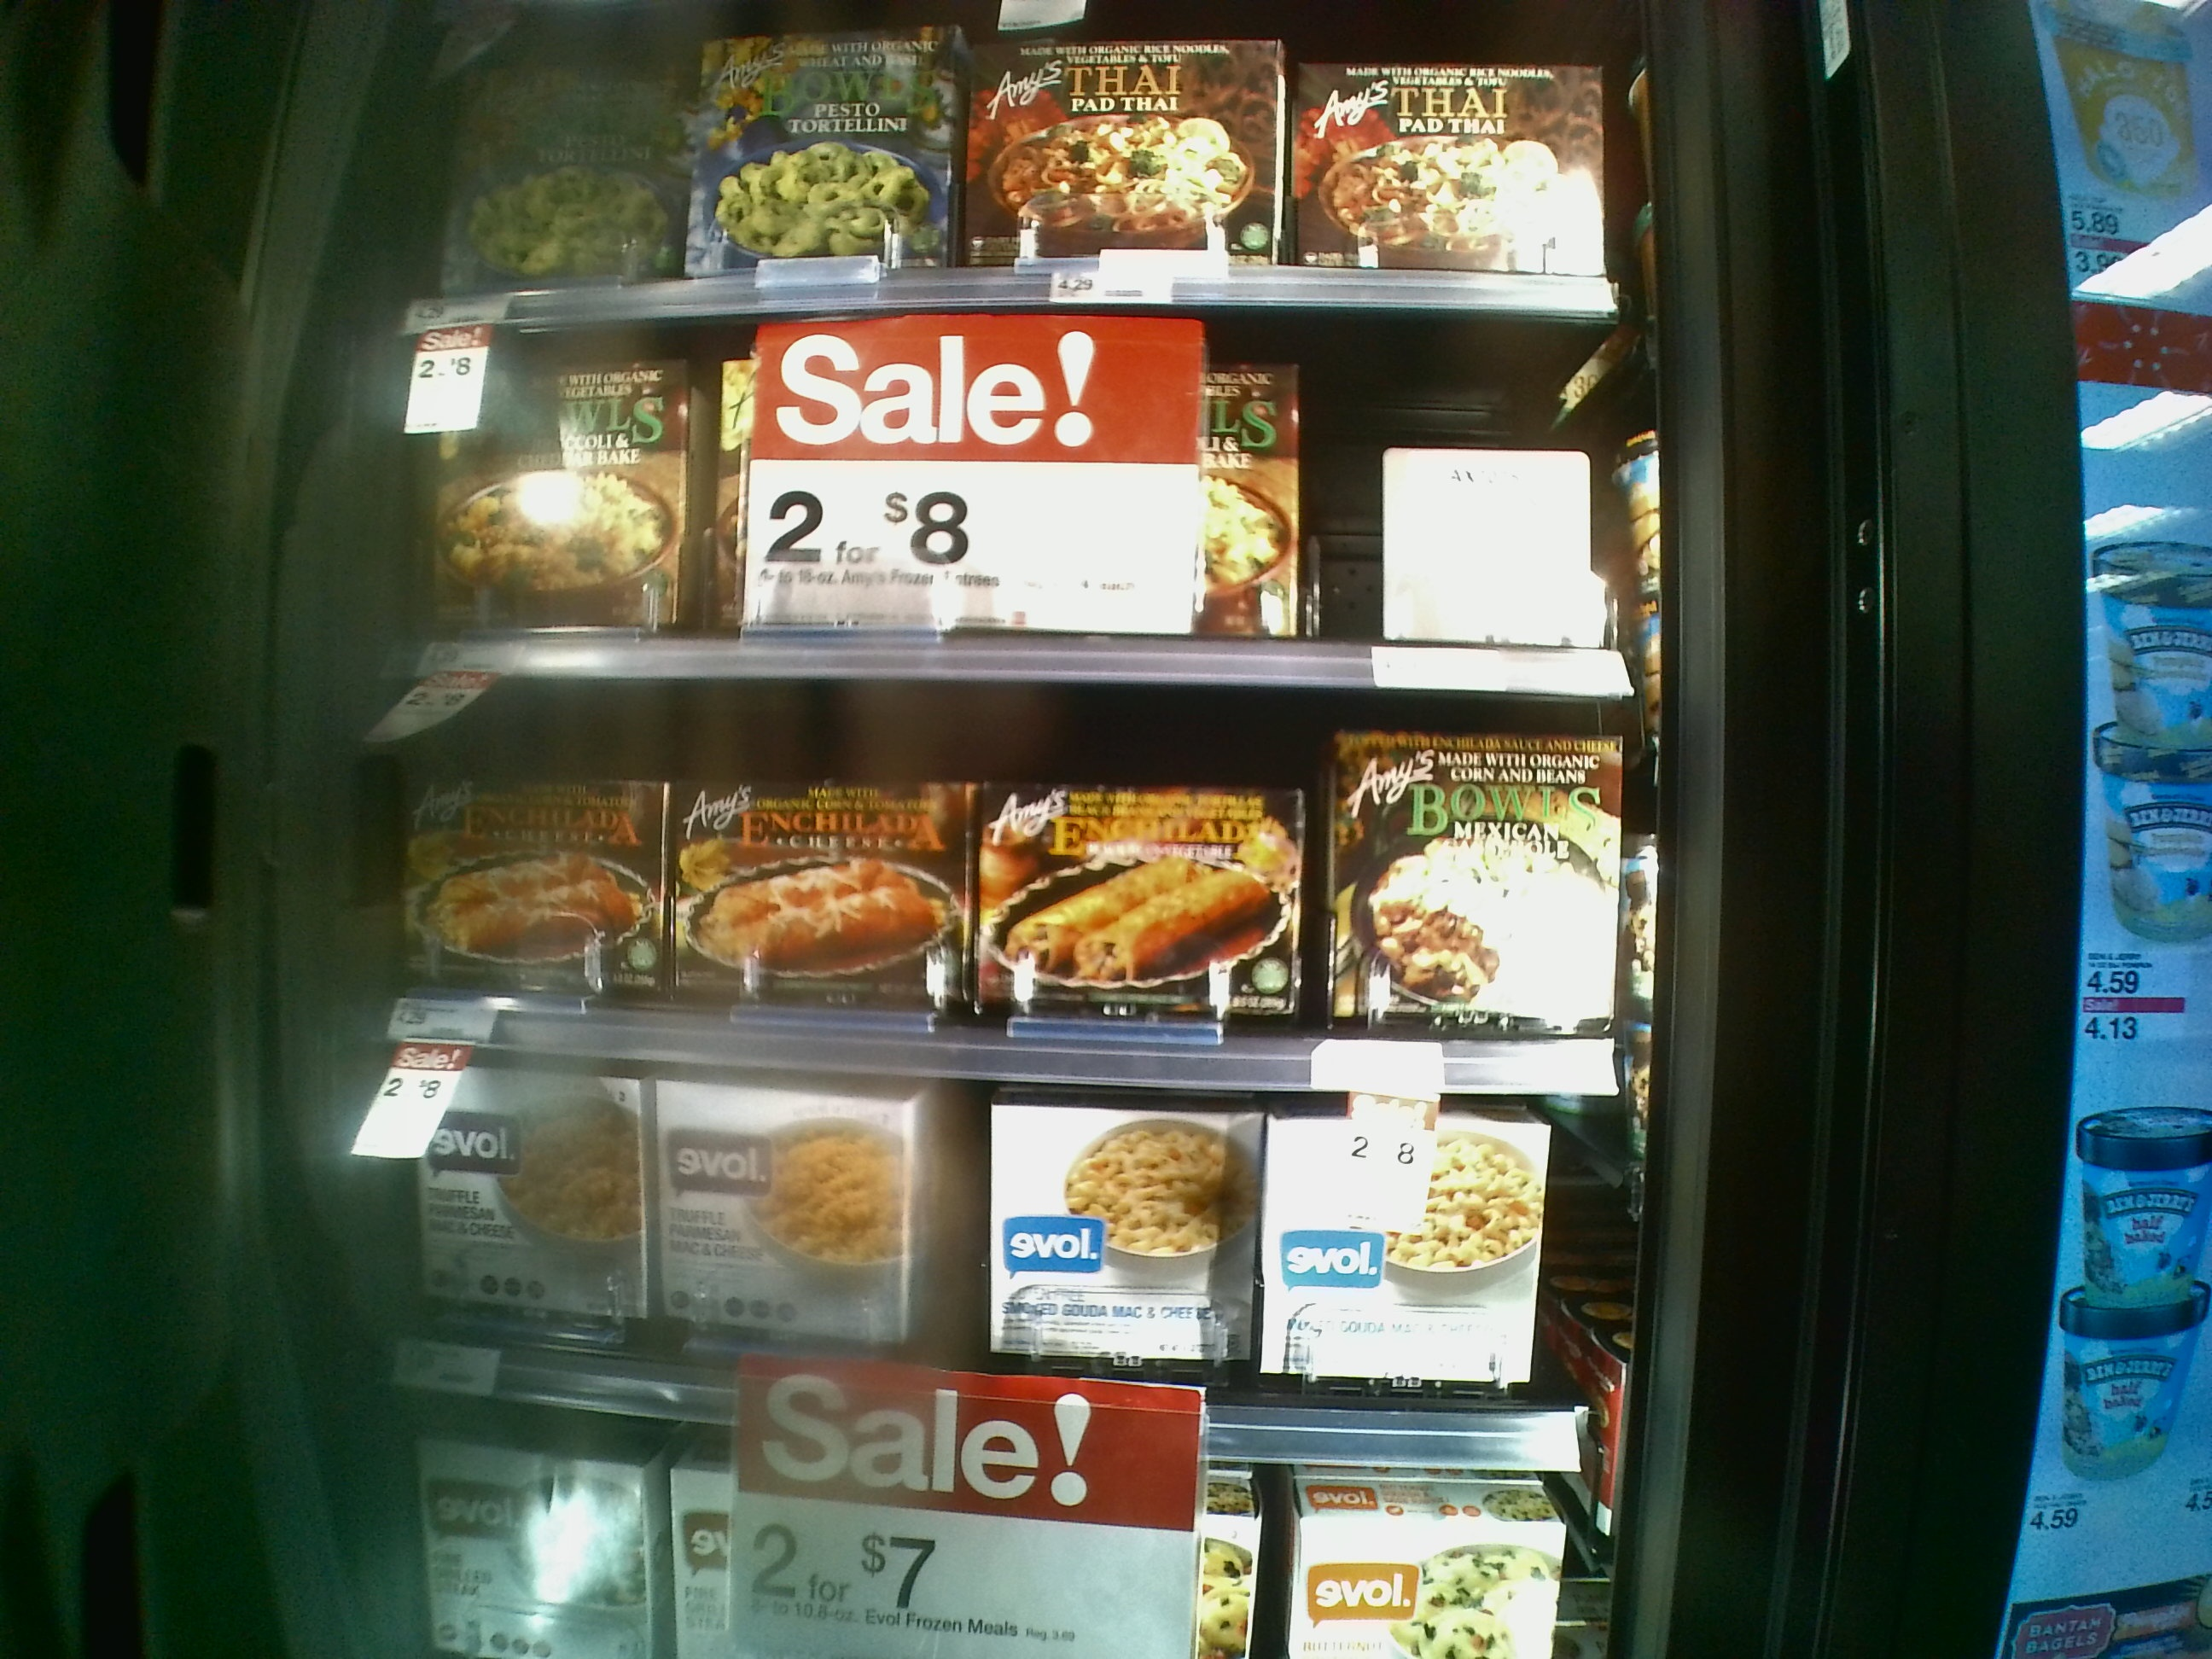shelf: (409, 1056, 1606, 1466), (395, 701, 1641, 1072), (408, 322, 1634, 694), (402, 10, 1641, 319)
